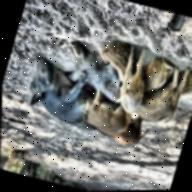boar: (55, 31, 167, 109), (16, 61, 116, 138), (130, 61, 192, 134), (109, 39, 160, 123), (77, 93, 135, 137)
